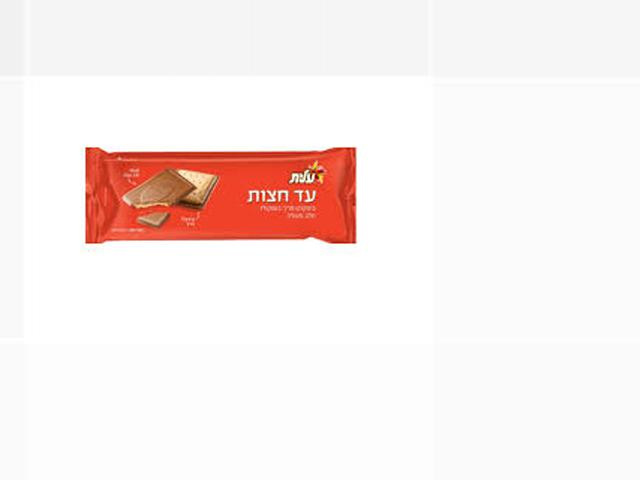chocolate: (85, 146, 366, 245)
